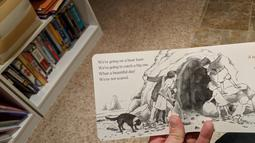text block: (93, 56, 148, 84)
